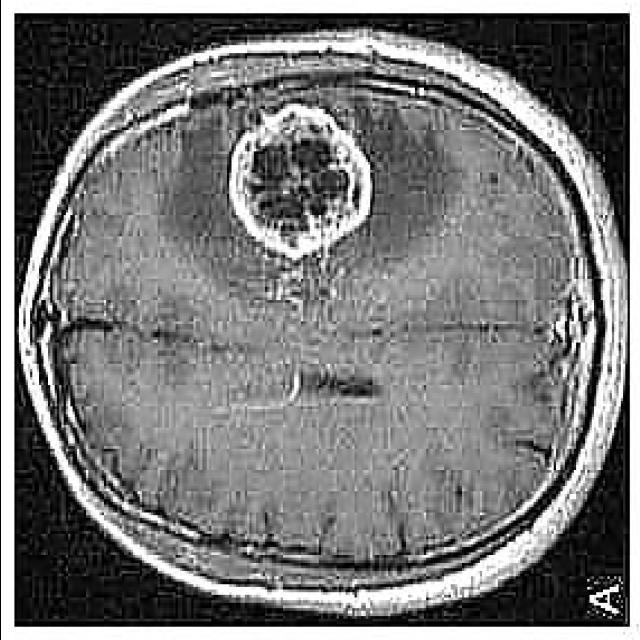tumor: (224, 104, 369, 258)
